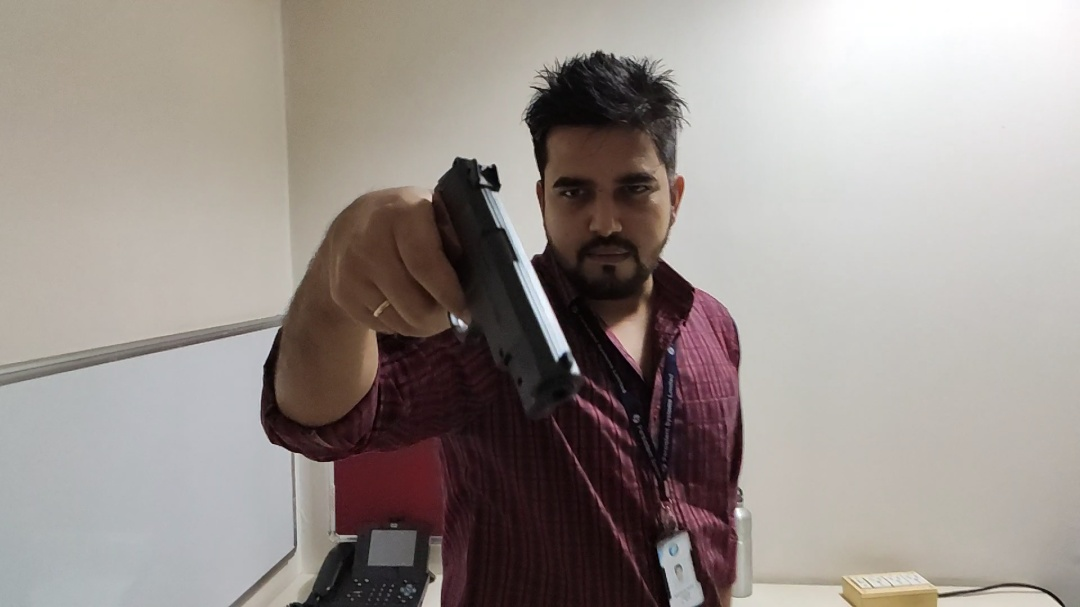gun: (359, 145, 587, 425)
